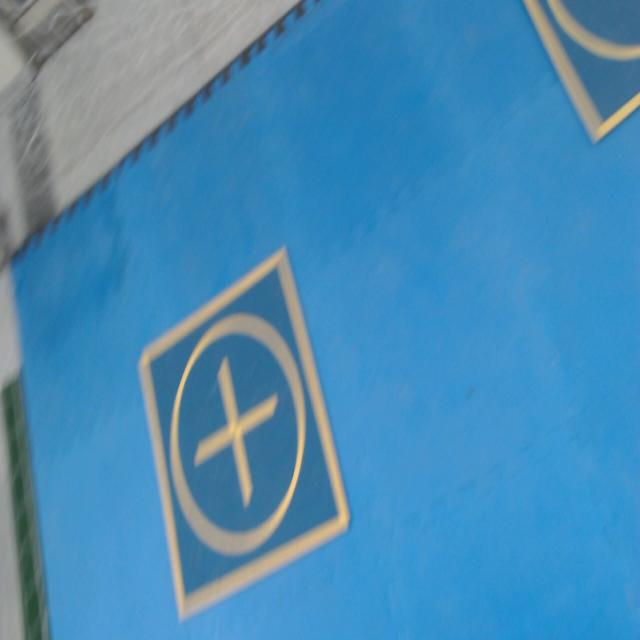base_pouso: (137, 242, 353, 624), (521, 0, 640, 149)
